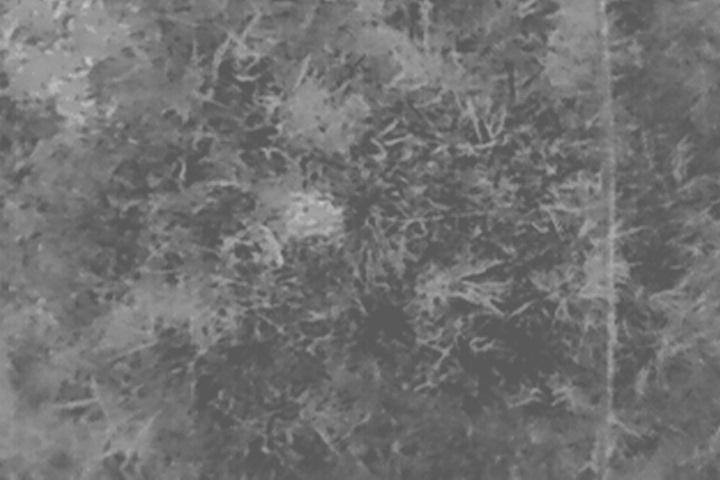landmine: (285, 194, 331, 235)
